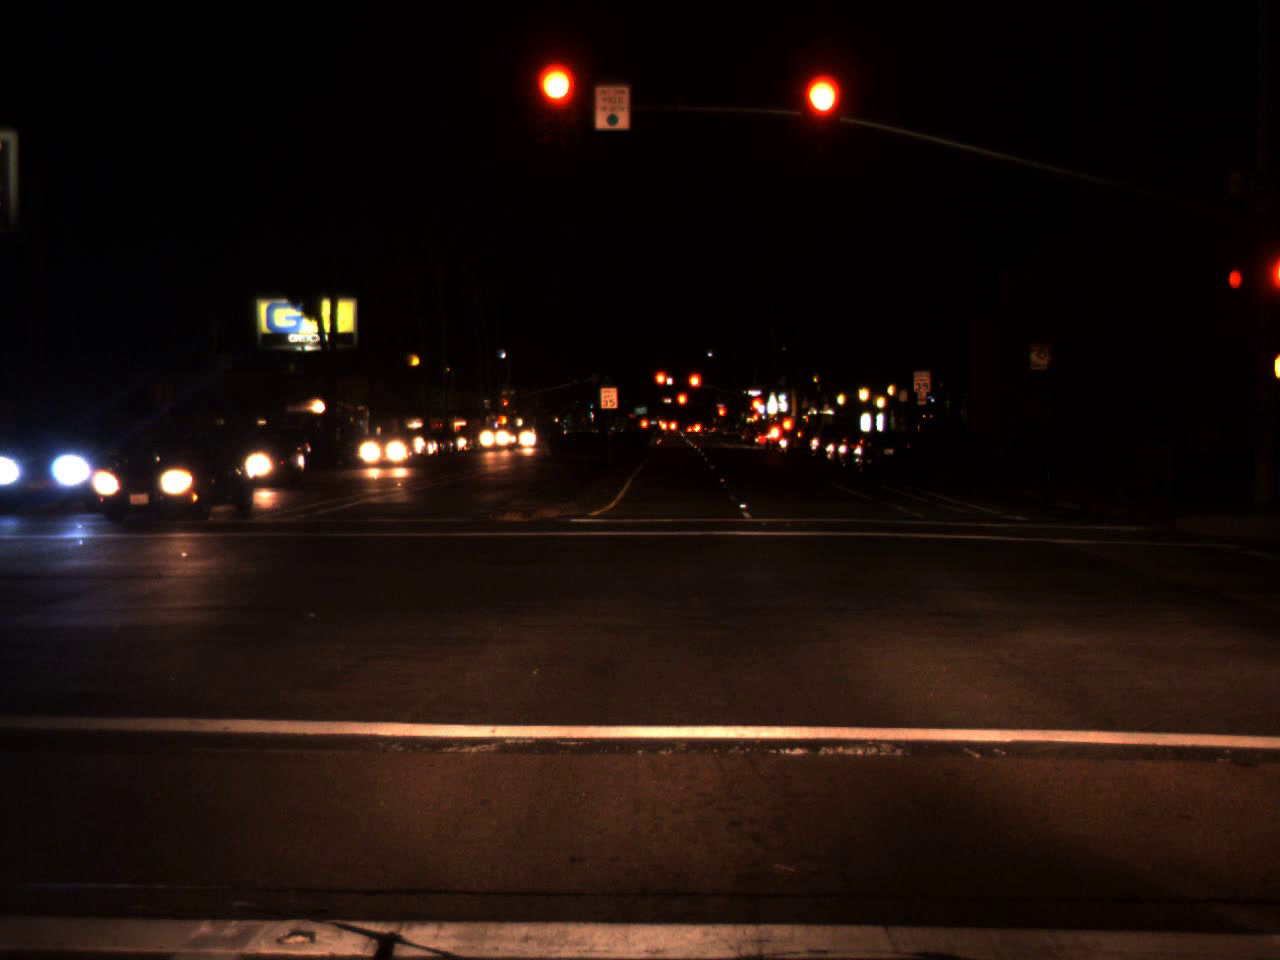stop: (537, 65, 577, 143), (802, 75, 841, 153), (686, 371, 702, 403), (653, 369, 668, 401), (674, 391, 689, 418), (750, 397, 763, 421), (717, 406, 726, 427), (503, 398, 509, 414)
